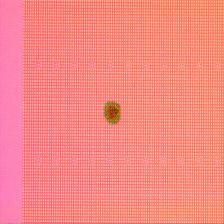PARTICLE: (102, 102, 125, 124)
